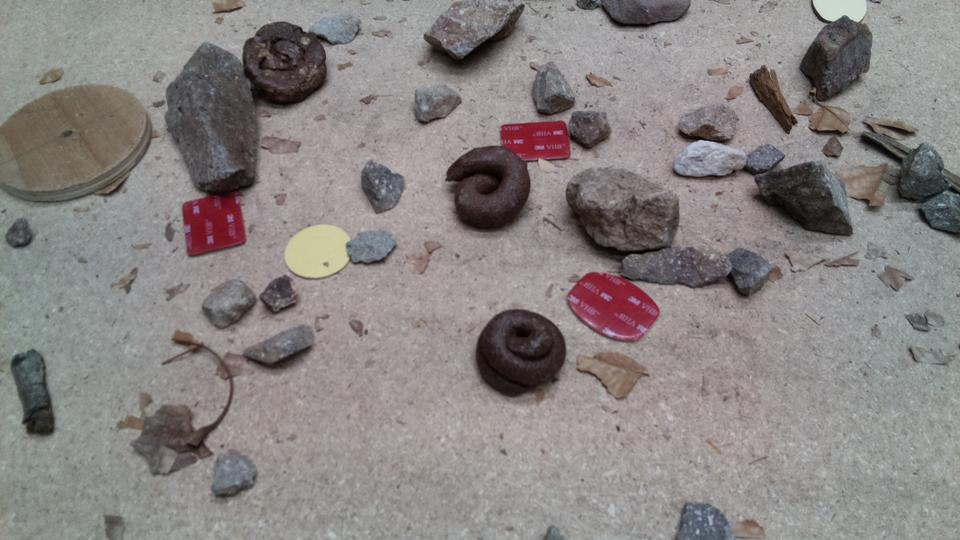poop: (474, 307, 570, 399), (444, 145, 533, 233), (241, 19, 329, 108)
